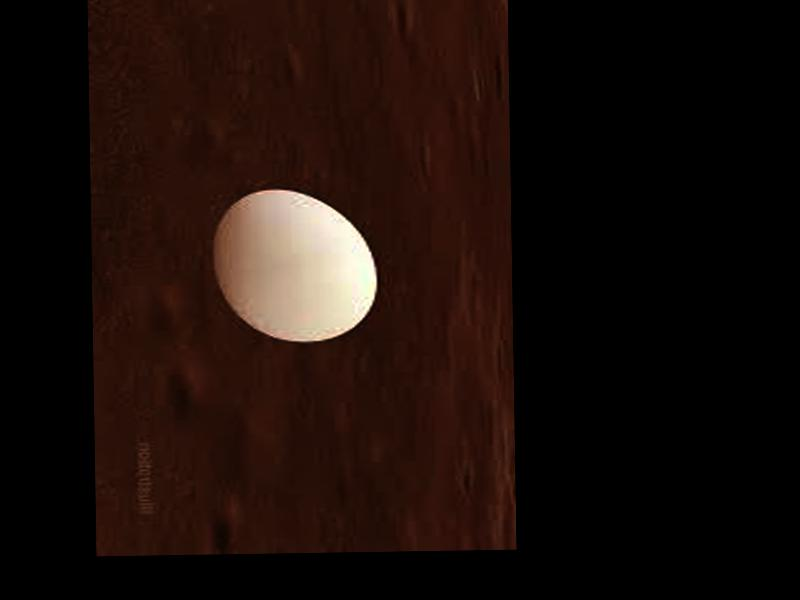Eggs: (212, 186, 377, 344)
